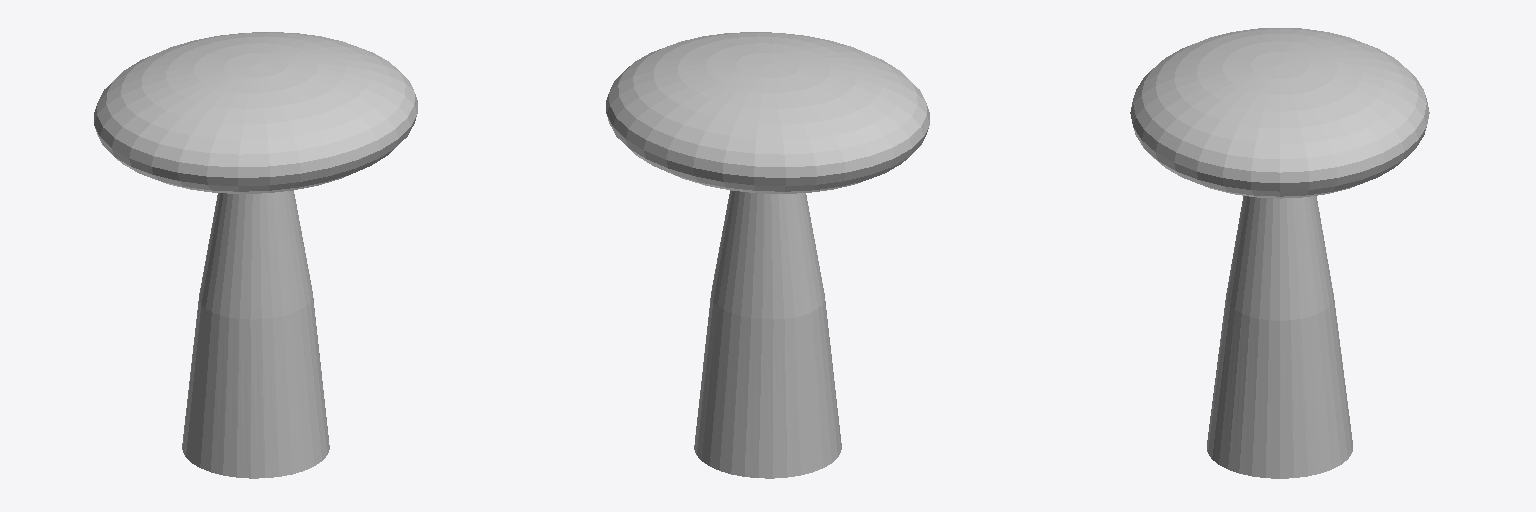
Rendered from Mushroom_01.obj.
3 views of the same model, side by side, from view 1: azimuth 30°, elevation 25°; view 2: azimuth 150°, elevation 25°; view 3: azimuth 270°, elevation 25° (orthographic).
Visible parts, largest first — view 1: Sphere, Cylinder; view 2: Sphere, Cylinder; view 3: Sphere, Cylinder.
Part boxes in pixels (bbox=[...]): Sphere: bbox=[94, 32, 417, 193]; Cylinder: bbox=[182, 190, 329, 478]; Sphere: bbox=[606, 32, 929, 193]; Cylinder: bbox=[694, 190, 841, 478]; Sphere: bbox=[1130, 28, 1429, 198]; Cylinder: bbox=[1207, 196, 1352, 478].
Bounding box in the file's own units: 6.21 × 7.88 × 5.59.